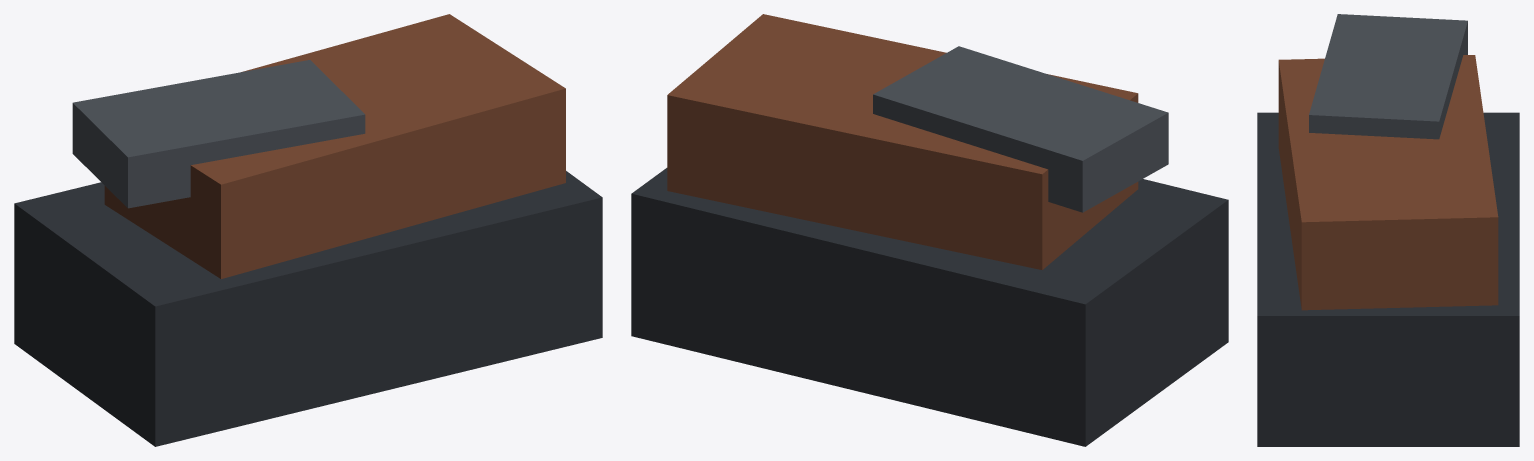
Rendered from platform_b.glb.
The picture shows the model from 3 angles, left to right: view 1: azimuth 30°, elevation 25°; view 2: azimuth 150°, elevation 25°; view 3: azimuth 270°, elevation 25°; orthographic projection. The views are drawn at different scales.
Parts seen in each view (by area): view 1: platform_b; view 2: platform_b; view 3: platform_b.
Boxes of the visible parts, x1=… form: platform_b: x1=14, y1=14, x2=602, y2=446; platform_b: x1=631, y1=14, x2=1228, y2=446; platform_b: x1=1257, y1=14, x2=1519, y2=446.
Size of the model in its own units: 5.5 by 2.99 by 3.
